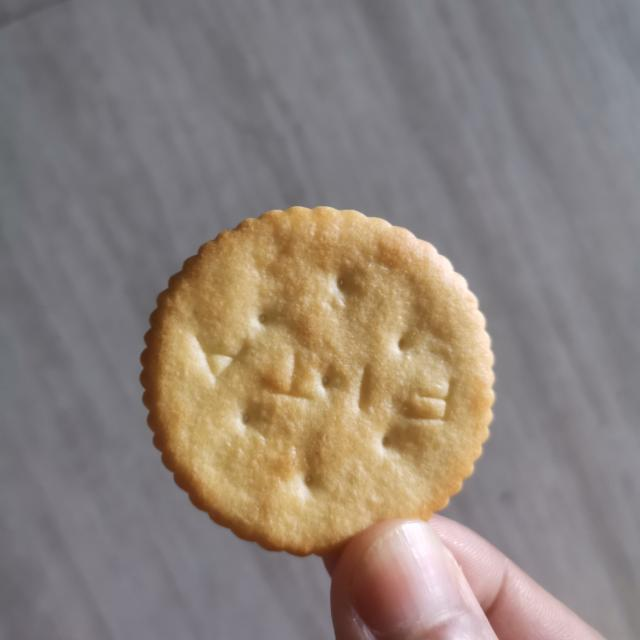Intact: (133, 196, 504, 566)
